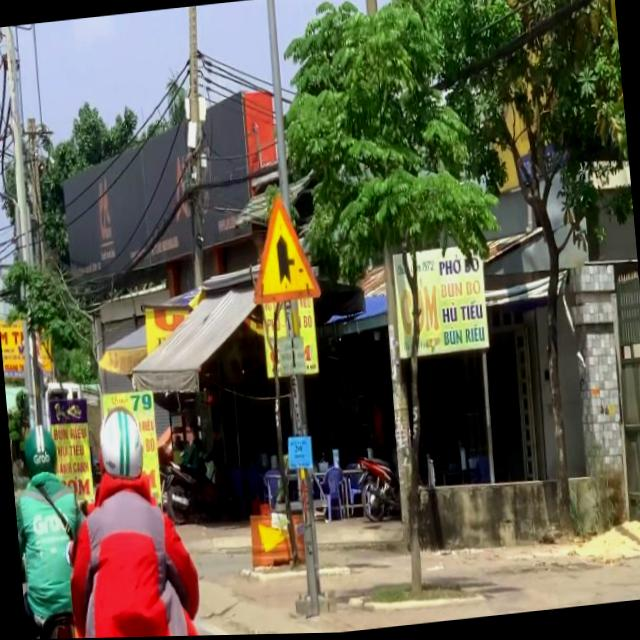Giao nhau voi duong khong uu tien ben phai: (243, 187, 322, 306)
